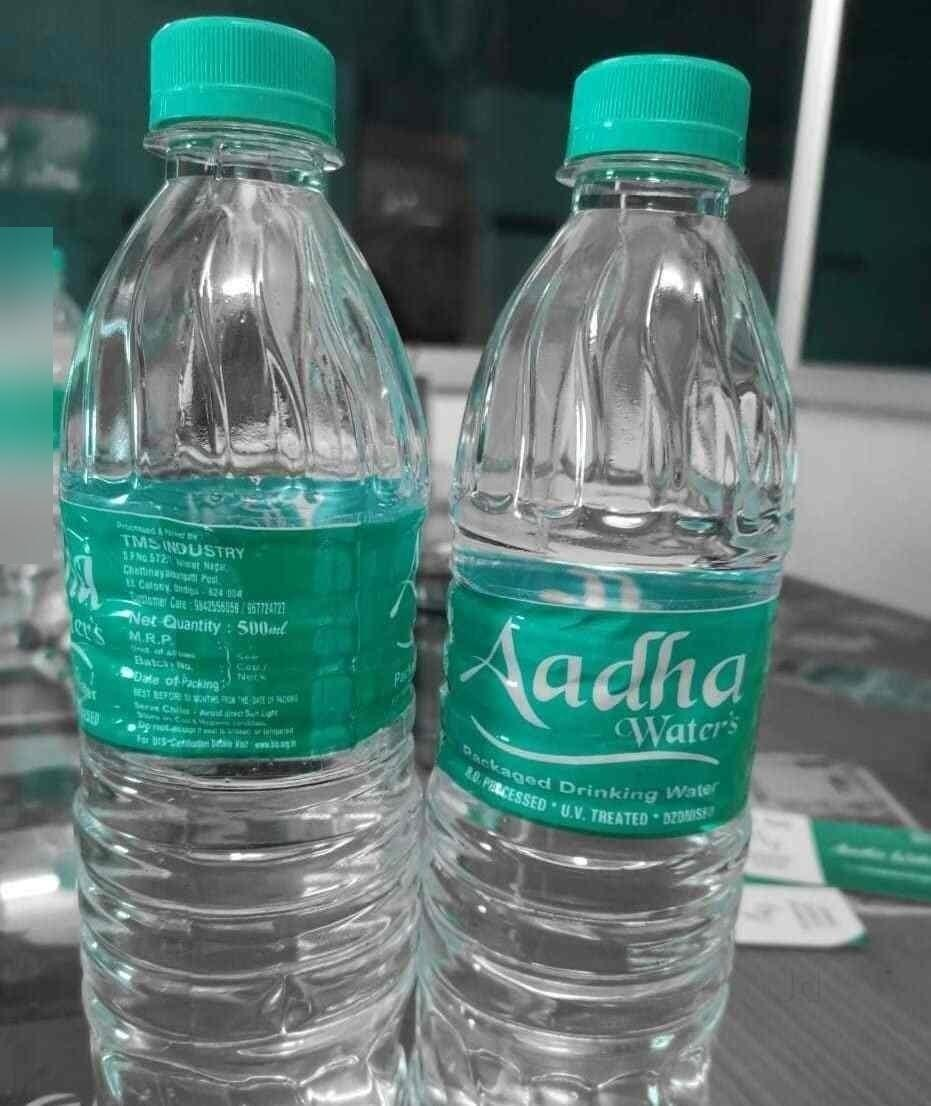bottle-plastic: (50, 11, 435, 1105), (418, 46, 803, 1105)
